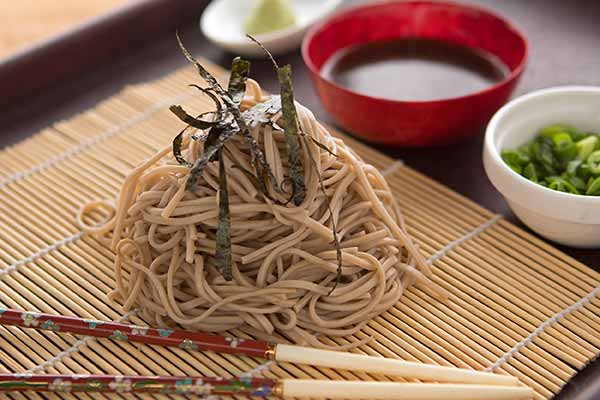Soba: (90, 88, 448, 345)
